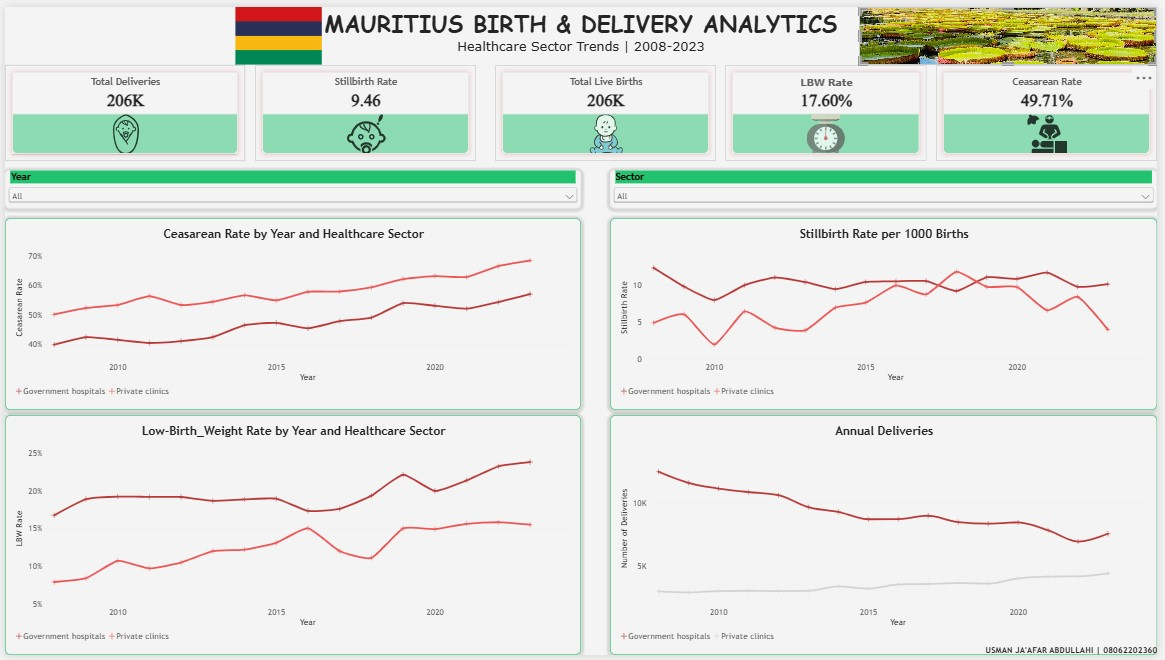

Layout of this report page (visuals, bound fields, positions):
{"tool":"powerbi","page":{"name":"Page 1","canvas":[1920,1080],"ordinal":0},"visuals":[{"type":"cardVisual","fields":{"Data":["mauritius_birth_statistics_analysis.Total Deliveries"]},"box":[0,96,400,160],"z":0},{"type":"cardVisual","fields":{"Data":["mauritius_birth_statistics_analysis.Total Live Births"]},"box":[816,96,368,160],"z":1000},{"type":"cardVisual","fields":{"Data":["mauritius_birth_statistics_analysis.Ceasarean Rate"]},"box":[1552,96,368,160],"z":2000},{"type":"cardVisual","fields":{"Data":["mauritius_birth_statistics_analysis.LBW Rate"]},"box":[1200,96,336,160],"z":3000},{"type":"cardVisual","fields":{"Data":["mauritius_birth_statistics_analysis.Stillbirth Rate"]},"box":[416,96,368,160],"z":4000},{"type":"slicer","fields":{"Values":["mauritius_birth_statistics_analysis.Year"]},"box":[0,272,960,64],"z":5000},{"type":"lineChart","title":"Annual Deliveries","fields":{"Category":["mauritius_birth_statistics_analysis.Year"],"Series":["mauritius_birth_statistics_analysis.Sector"],"Y":["Sum(mauritius_birth_statistics_analysis.Deliveries)"]},"box":[1008,680,912,400],"z":6000},{"type":"lineChart","title":"Ceasarean Rate by Year and Healthcare Sector","fields":{"Category":["mauritius_birth_statistics_analysis.Year"],"Series":["mauritius_birth_statistics_analysis.Sector"],"Y":["mauritius_birth_statistics_analysis.Ceasarean Rate"]},"box":[0,352,960,320],"z":7000},{"type":"lineChart","title":"Low-Birth_Weight Rate by Year and Healthcare Sector","fields":{"Category":["mauritius_birth_statistics_analysis.Year"],"Series":["mauritius_birth_statistics_analysis.Sector"],"Y":["mauritius_birth_statistics_analysis.LBW Rate"]},"box":[0,680,960,400],"z":8000},{"type":"lineChart","title":"Stillbirth Rate per 1000 Births ","fields":{"Category":["mauritius_birth_statistics_analysis.Year"],"Series":["mauritius_birth_statistics_analysis.Sector"],"Y":["mauritius_birth_statistics_analysis.Stillbirth Rate"]},"box":[1008,352,912,320],"z":9000},{"type":"slicer","fields":{"Values":["mauritius_birth_statistics_analysis.Sector"]},"box":[1008,272,912,64],"z":10000},{"type":"textbox","box":[0,0,1920,80],"z":11000},{"type":"image","box":[0,0,912,96],"z":12000},{"type":"textbox","box":[976,1064,944,16],"z":13000}]}

Visuals, with their boxes in screenshot pixels (x1, y1, x2, y2), scaled from the page's 1920x1080 canvas onto the 1165x660 screenshot:
cardVisual - mauritius_birth_statistics_analysis.Total Deliveries: Rect(0, 59, 243, 156)
cardVisual - mauritius_birth_statistics_analysis.Total Live Births: Rect(495, 59, 718, 156)
cardVisual - mauritius_birth_statistics_analysis.Ceasarean Rate: Rect(942, 59, 1164, 156)
cardVisual - mauritius_birth_statistics_analysis.LBW Rate: Rect(728, 59, 932, 156)
cardVisual - mauritius_birth_statistics_analysis.Stillbirth Rate: Rect(252, 59, 476, 156)
slicer - mauritius_birth_statistics_analysis.Year: Rect(0, 166, 582, 205)
"Annual Deliveries" lineChart: Rect(612, 416, 1164, 659)
"Ceasarean Rate by Year and Healthcare Sector" lineChart: Rect(0, 215, 582, 411)
"Low-Birth_Weight Rate by Year and Healthcare Sector" lineChart: Rect(0, 416, 582, 659)
"Stillbirth Rate per 1000 Births " lineChart: Rect(612, 215, 1164, 411)
slicer - mauritius_birth_statistics_analysis.Sector: Rect(612, 166, 1164, 205)
textbox: Rect(0, 0, 1164, 49)
image: Rect(0, 0, 553, 59)
textbox: Rect(592, 650, 1164, 659)
